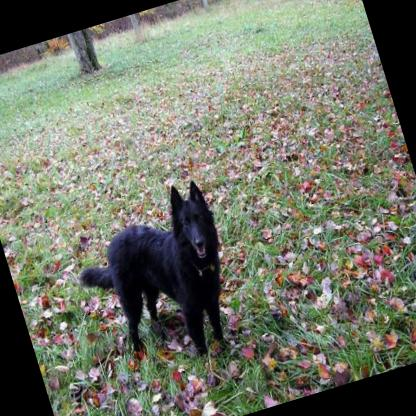groenendael: (57, 176, 251, 387)
